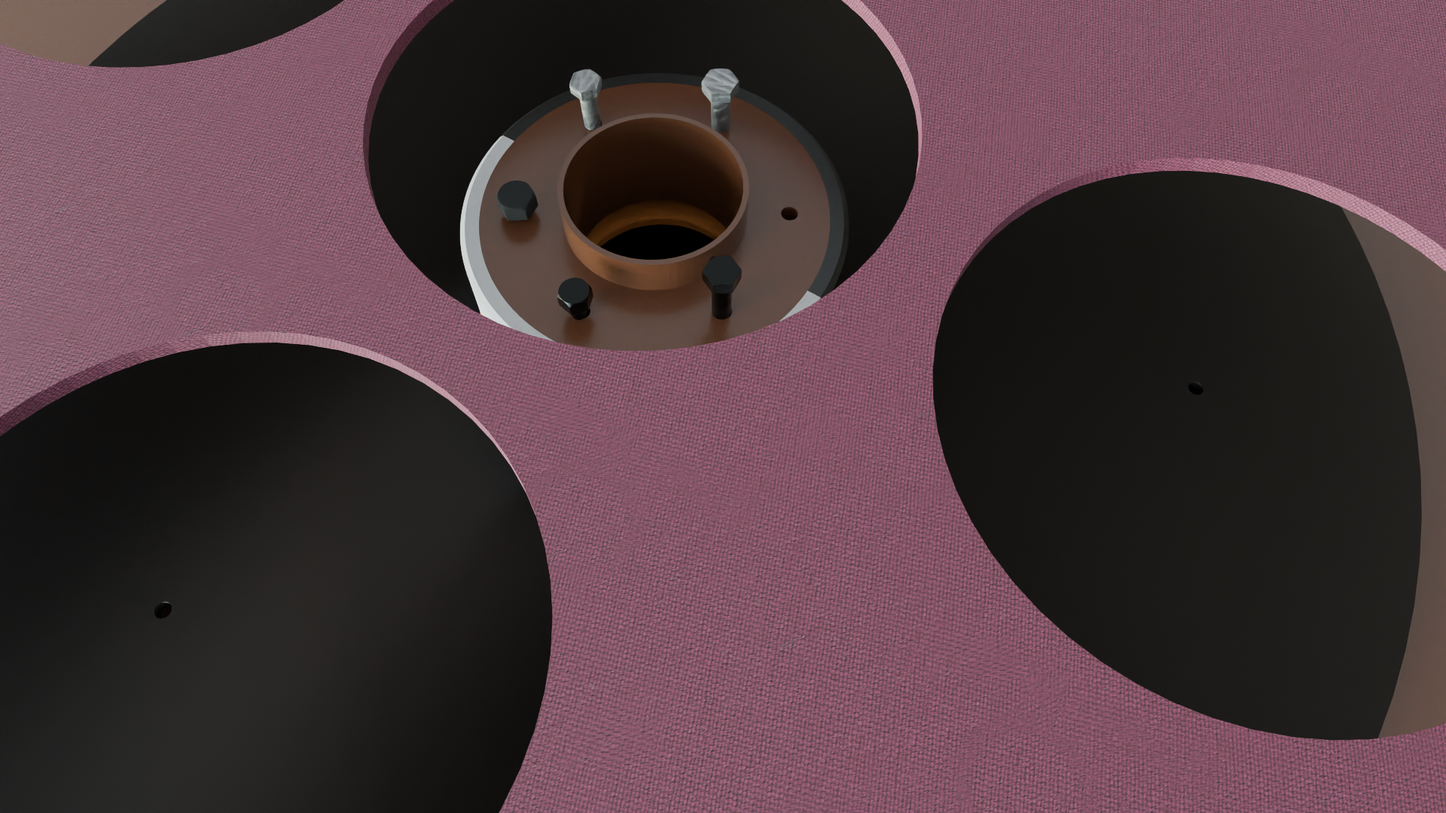bolt: (496, 181, 536, 212), (703, 256, 742, 286), (557, 278, 592, 308), (702, 69, 739, 94), (569, 69, 601, 93)
